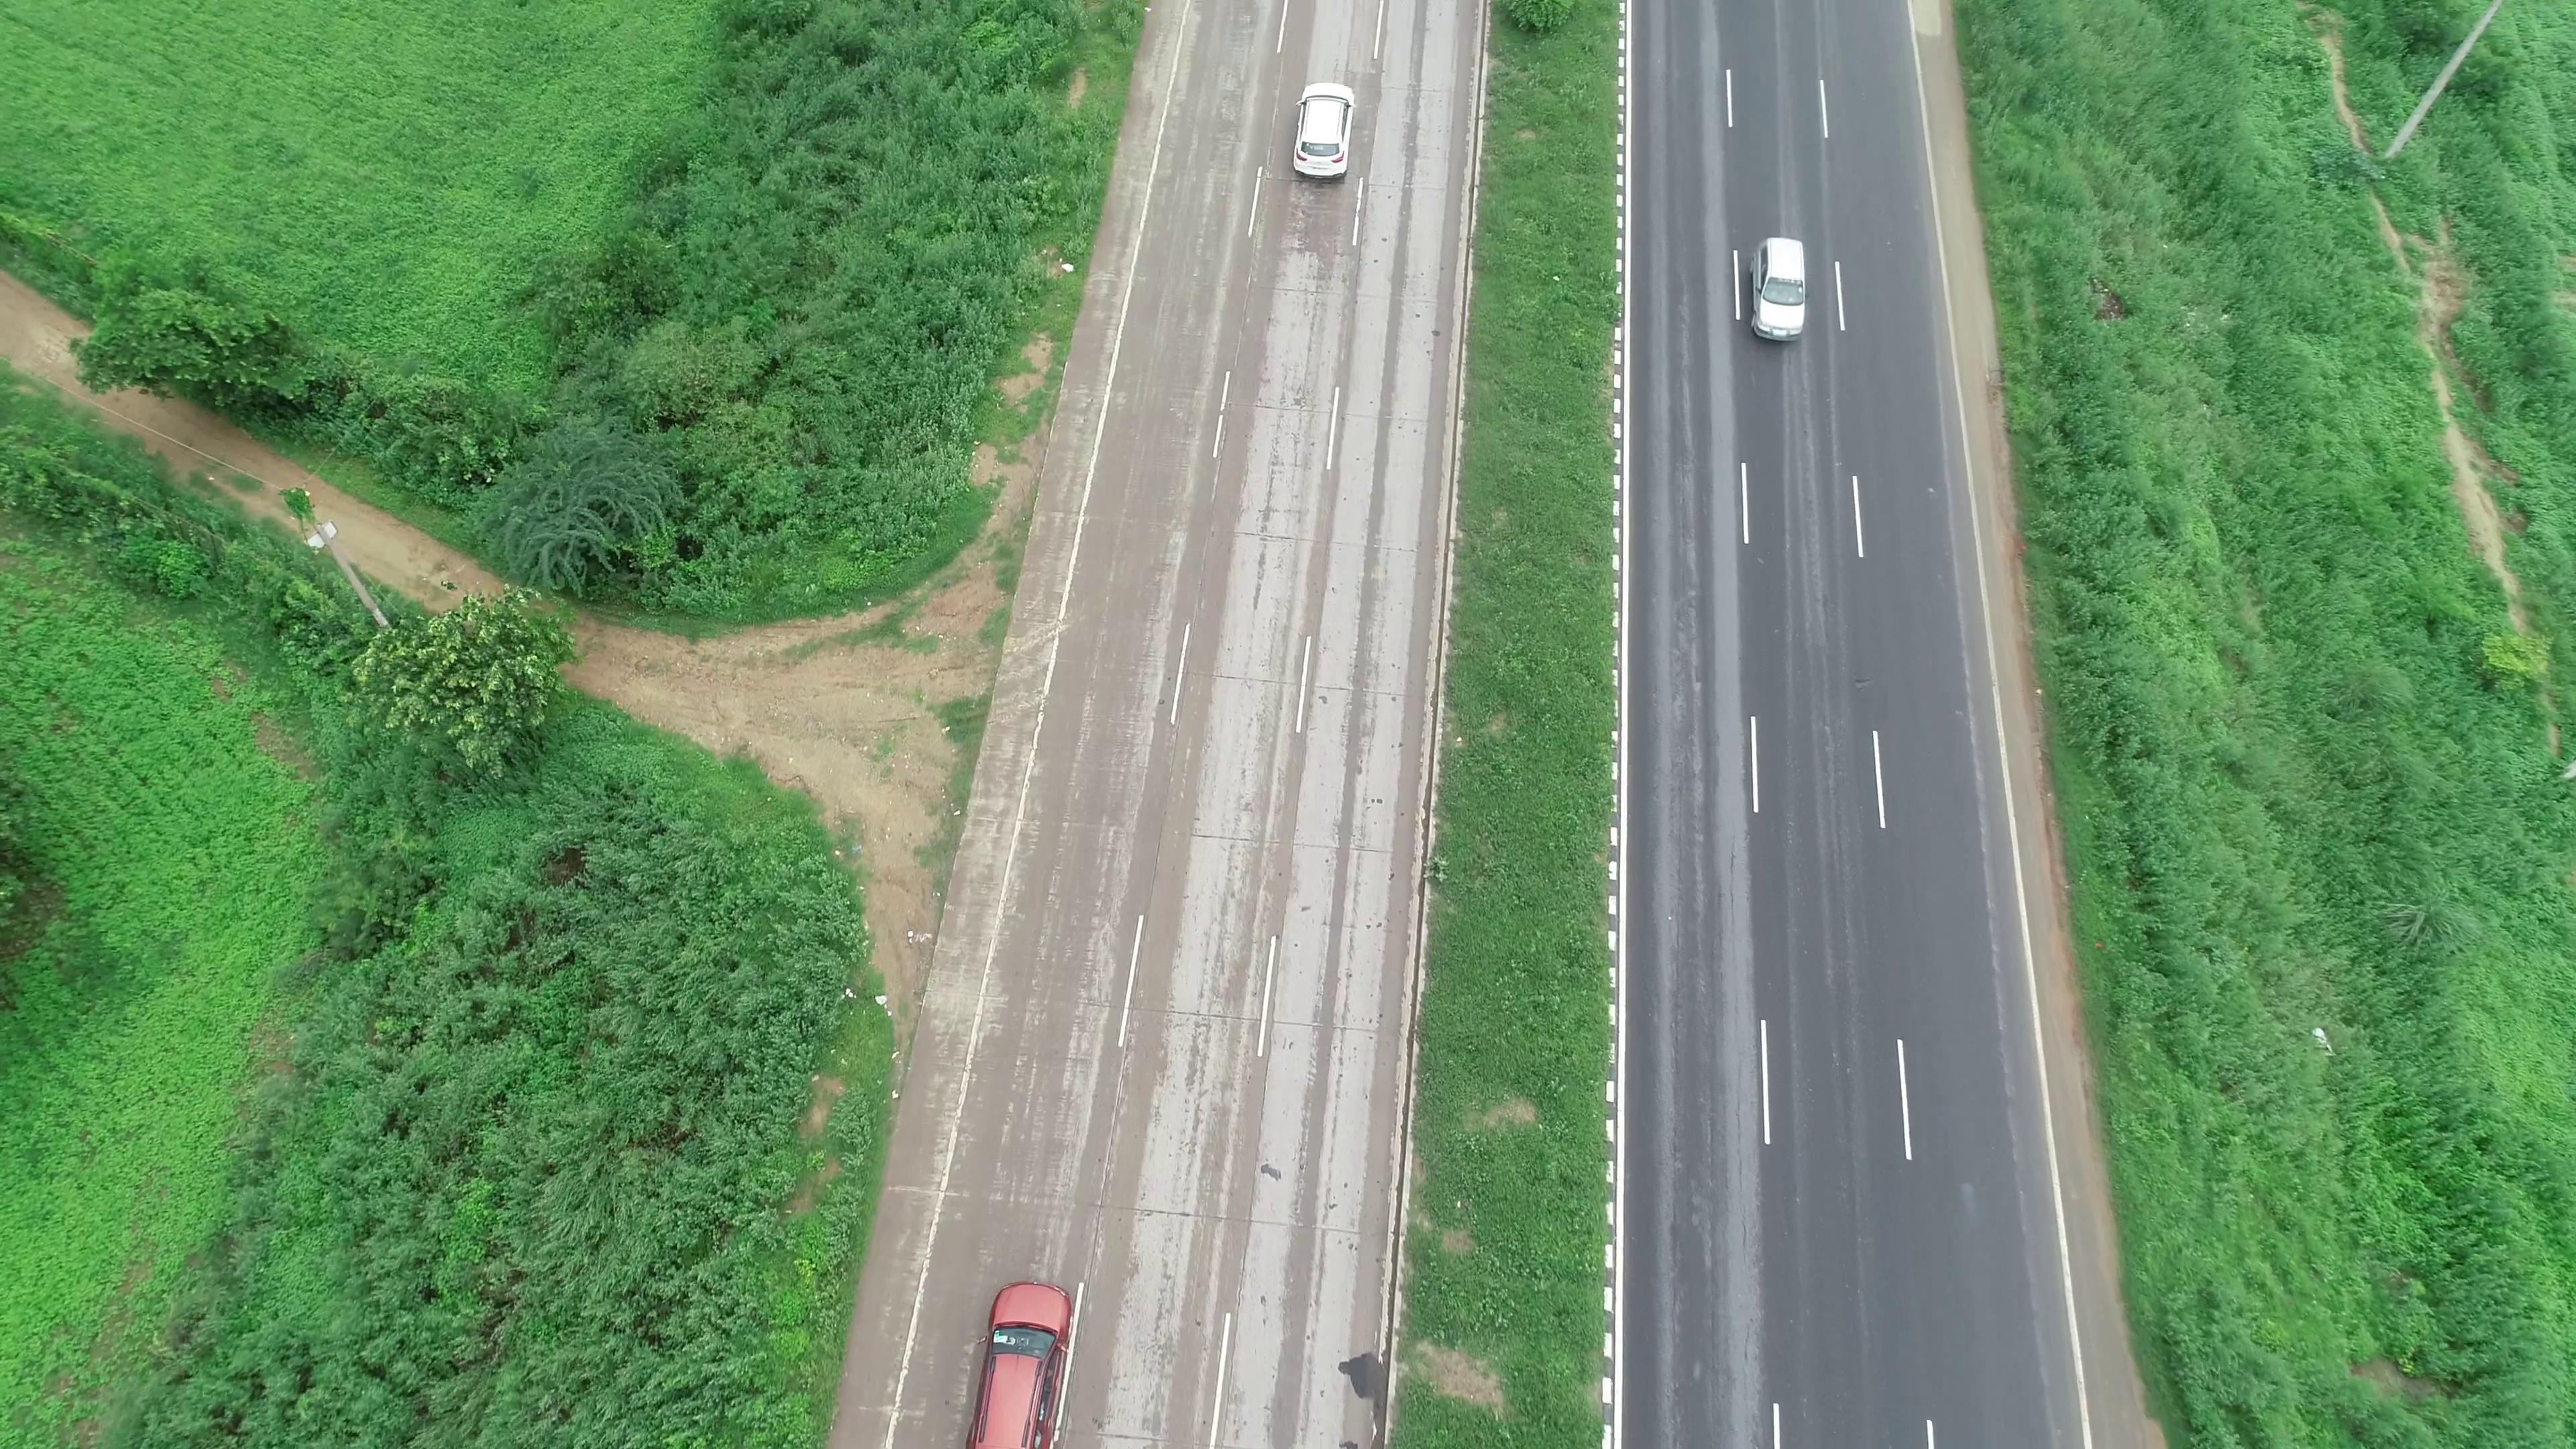Longitudinal_cracks: (1718, 847, 1760, 1274)
